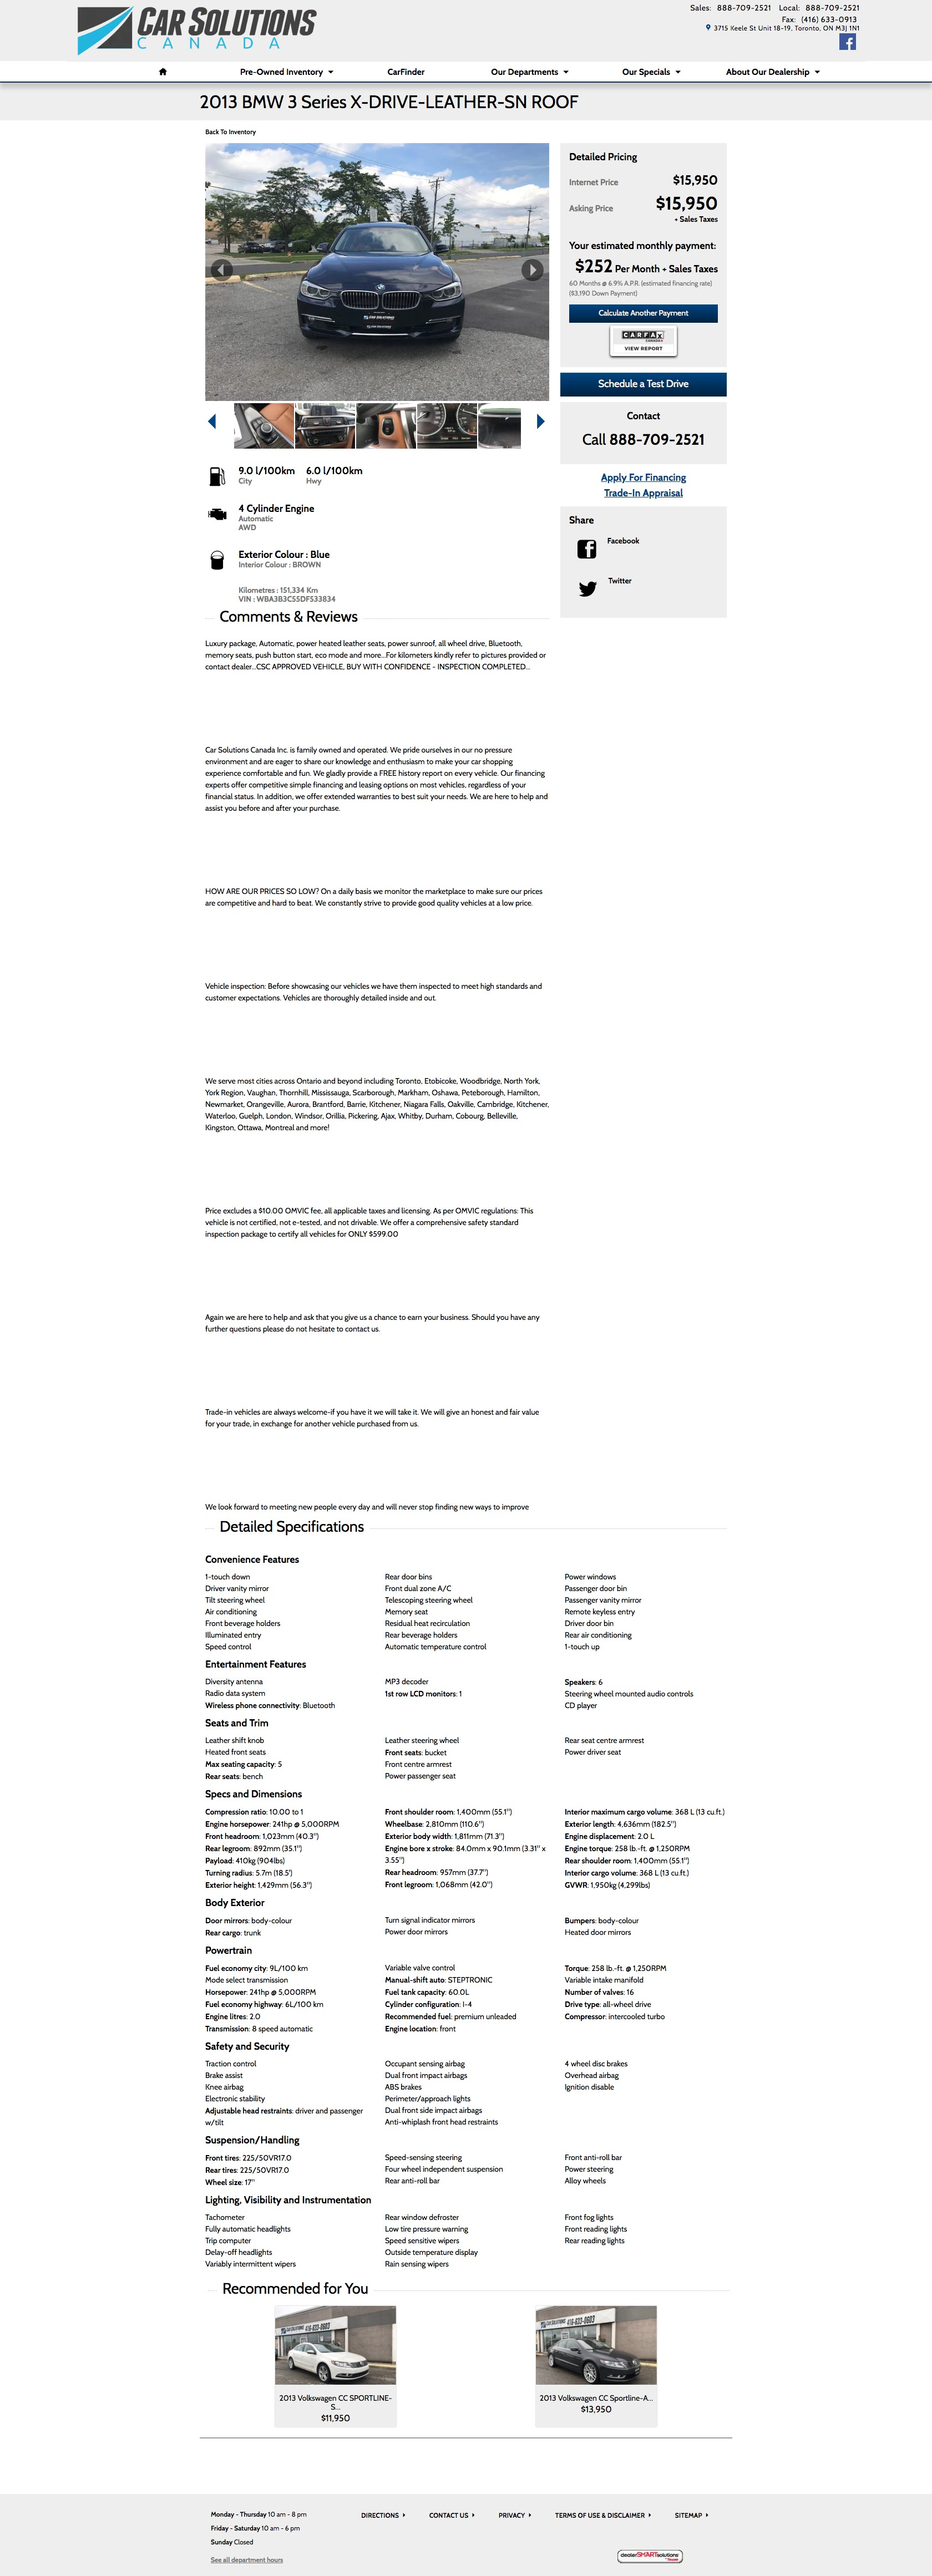car: (536, 414, 546, 430)
